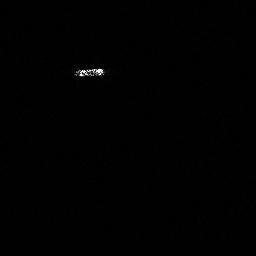ship: (69, 65, 106, 80)
